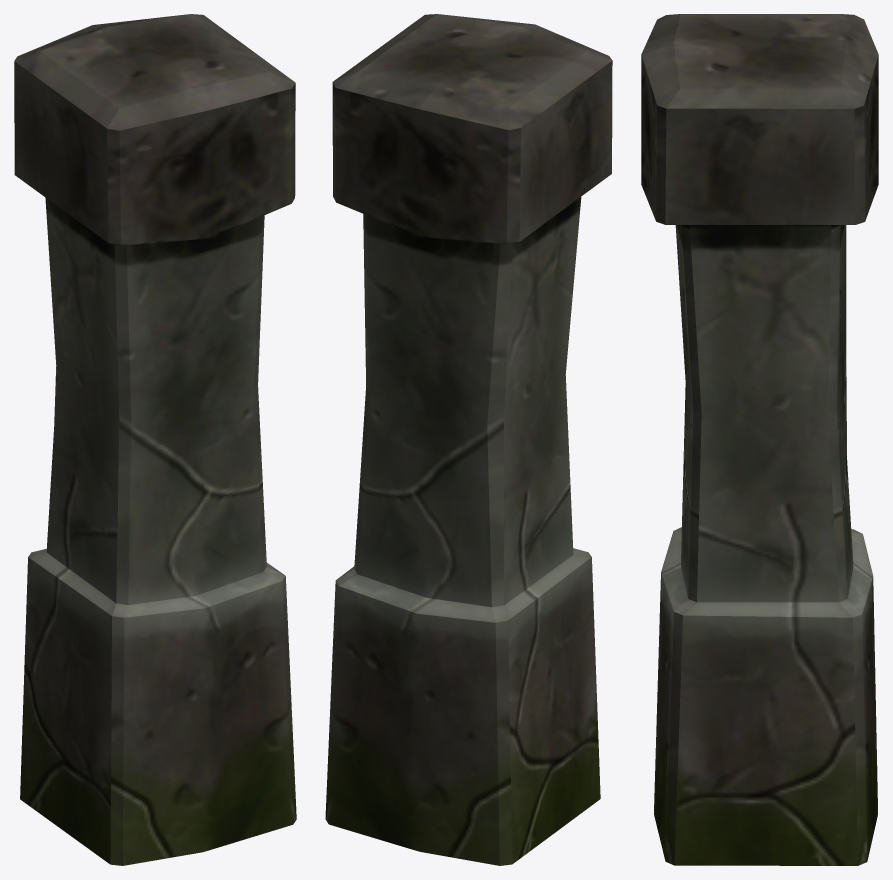
The model's file is Column01.FBX.
3 views of the same model, side by side, from view 1: azimuth 30°, elevation 25°; view 2: azimuth 150°, elevation 25°; view 3: azimuth 270°, elevation 25° (orthographic). The views are drawn at different scales.
Visible parts, largest first — view 1: Column01; view 2: Column01; view 3: Column01.
Boxes of the visible parts, x1=… form: Column01: x1=14, y1=14, x2=296, y2=865; Column01: x1=325, y1=14, x2=612, y2=865; Column01: x1=641, y1=14, x2=878, y2=865.
Bounding box in the file's own units: 15.65 × 58.1 × 16.21.
